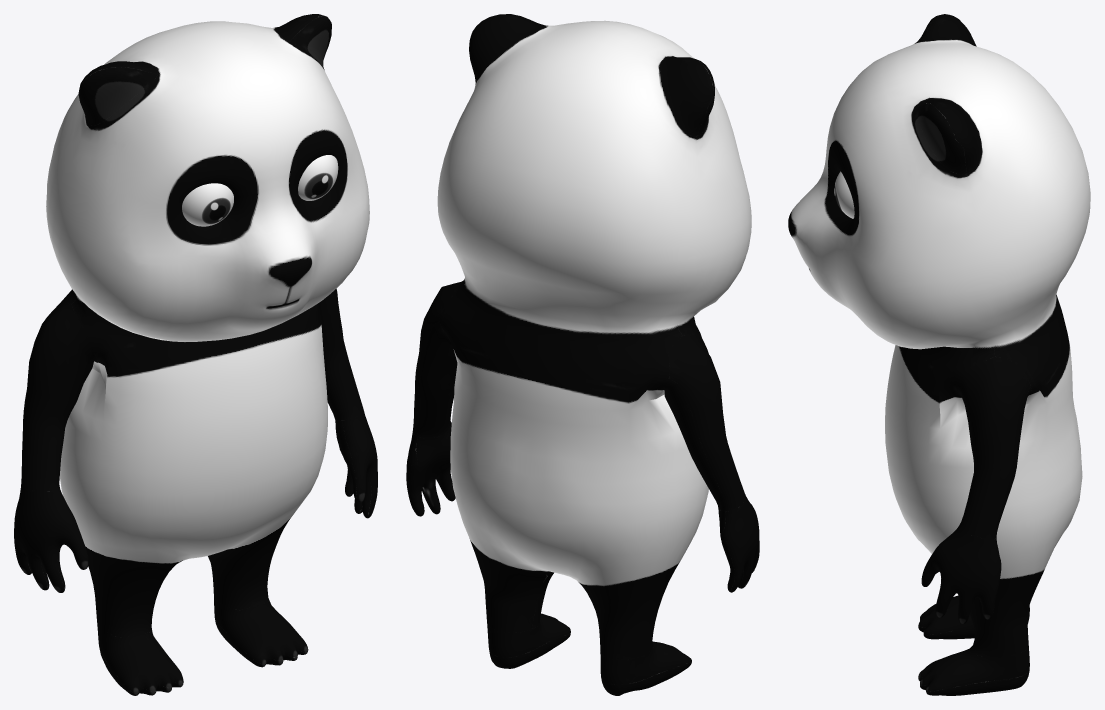
Rendered from panda-3d.glb.
The picture shows the model from 3 angles, left to right: view 1: azimuth 30°, elevation 25°; view 2: azimuth 150°, elevation 25°; view 3: azimuth 270°, elevation 25°; orthographic projection. The views are drawn at different scales.
Parts seen in each view (by area): view 1: character; view 2: character; view 3: character.
Part boxes in pixels (bbox=[...]): character: bbox=[14, 14, 377, 695]; character: bbox=[406, 14, 759, 695]; character: bbox=[788, 14, 1090, 695].
Size of the model in its own units: 0.5718 by 1 by 0.4553.
2 materials, 2 textured.
